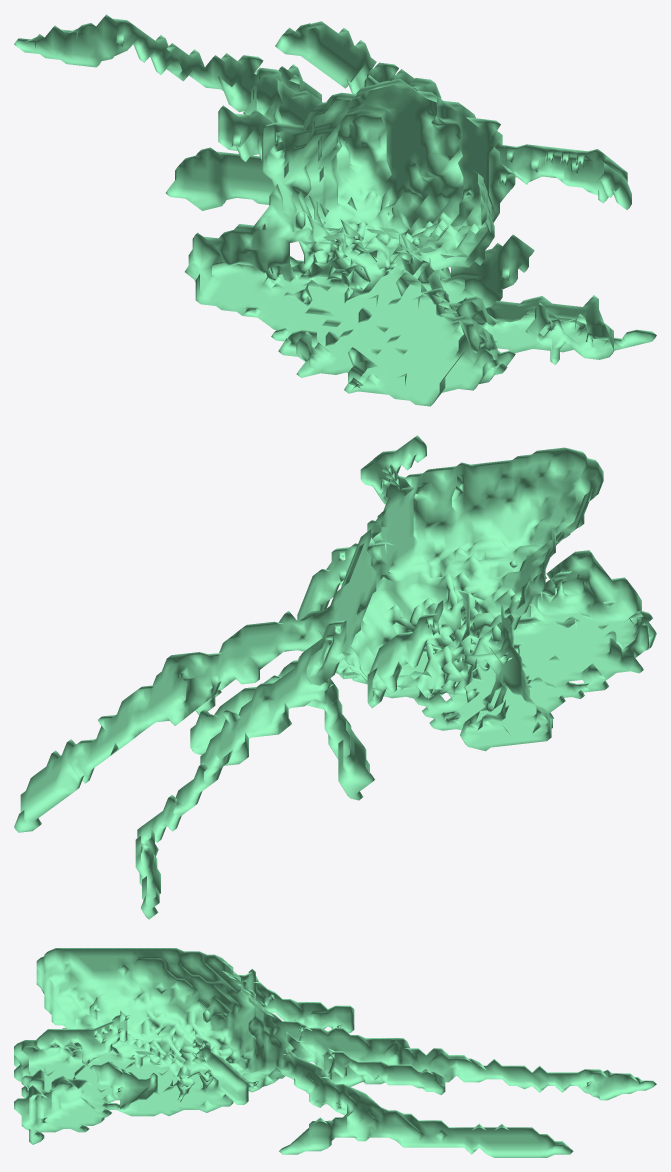
Rendered from osteocyte_41.glb.
The picture shows the model from 3 angles, top to bottom: view 1: azimuth 30°, elevation 25°; view 2: azimuth 150°, elevation 25°; view 3: azimuth 270°, elevation 25°; orthographic projection. The views are drawn at different scales.
Parts seen in each view (by area): view 1: osteocyte_41; view 2: osteocyte_41; view 3: osteocyte_41.
Boxes of the visible parts, left/top/right/bottom form: osteocyte_41: left=14, top=14, right=656, bottom=406; osteocyte_41: left=14, top=435, right=656, bottom=919; osteocyte_41: left=14, top=948, right=656, bottom=1157.
Bounding box in the file's own units: 16.1 × 8.05 × 38.
